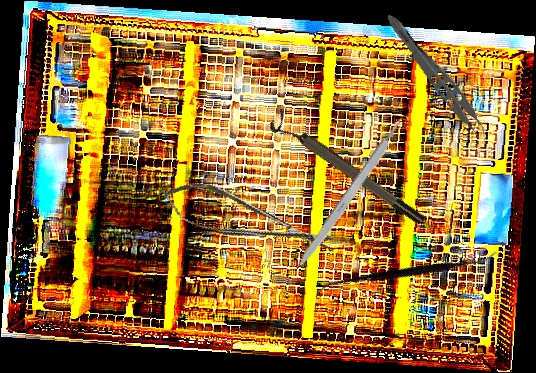Fixation Ring: (267, 108, 427, 234)
Micro Scissor: (158, 171, 338, 270)
Scalpel Handle: (292, 118, 408, 274)
Spatula Surgical: (315, 185, 498, 363)
Tissue Forceps: (374, 10, 498, 150)
